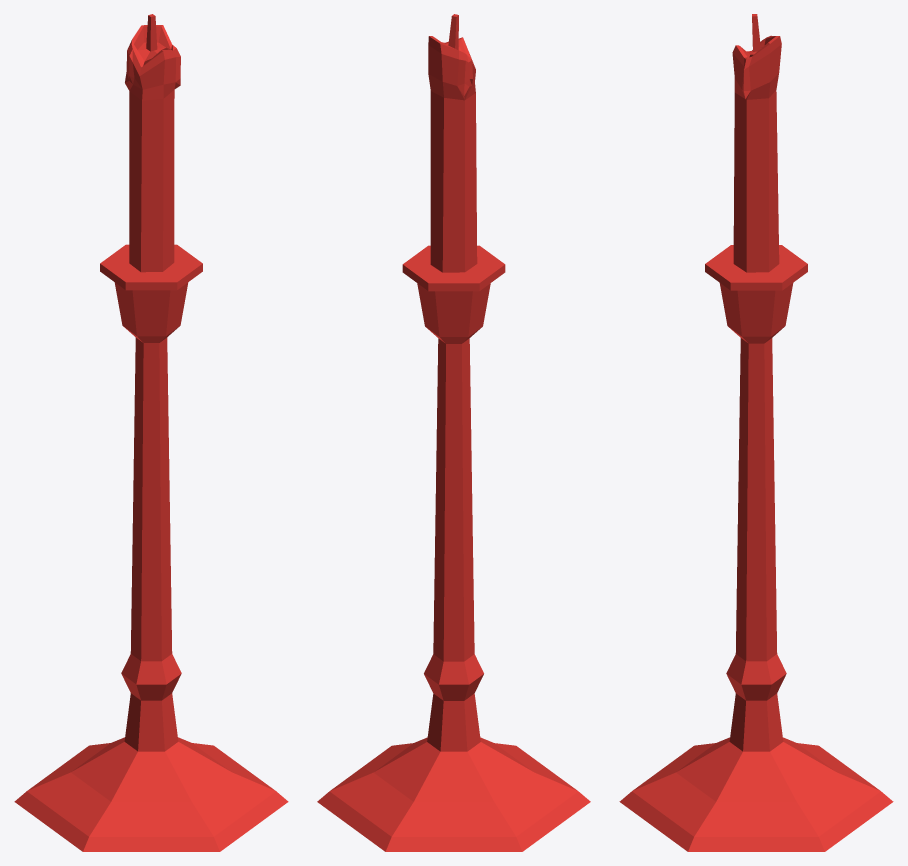
Rendered from SM_Candle_Holder_Tall_B_Unlit_Christmas.fbx.
The picture shows the model from 3 angles, left to right: view 1: azimuth 30°, elevation 25°; view 2: azimuth 150°, elevation 25°; view 3: azimuth 270°, elevation 25°; orthographic projection.
Parts seen in each view (by area): view 1: candle-holder-tall-b-unlit-christmas; view 2: candle-holder-tall-b-unlit-christmas; view 3: candle-holder-tall-b-unlit-christmas.
Boxes of the visible parts, box(x1,y1,x2,y2) form: candle-holder-tall-b-unlit-christmas: box(14, 14, 288, 851); candle-holder-tall-b-unlit-christmas: box(317, 14, 590, 851); candle-holder-tall-b-unlit-christmas: box(619, 14, 893, 851).
Size of the model in its own units: 0.1644 by 0.6008 by 0.1898.
